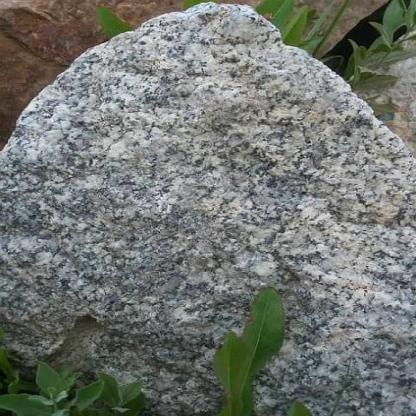Igneous_Diorite: (1, 4, 405, 415)
